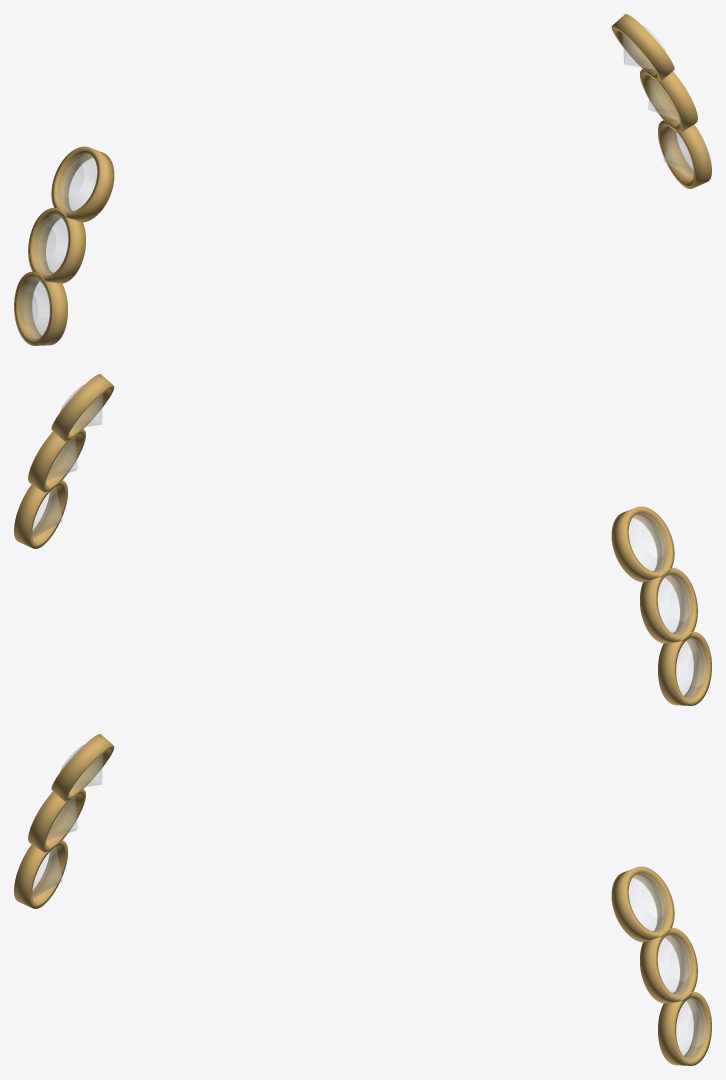
File: accents-bezel-accents-wide.glb
3 views of the same model, one above another, from view 1: azimuth 30°, elevation 25°; view 2: azimuth 150°, elevation 25°; view 3: azimuth 330°, elevation 25° (orthographic).
Visible parts, largest first — view 1: Accent bezel, Accent bezel.002, Accent bezel.001, Accent bezel.005, Accent bezel.004, Accent bezel.003, Gem, Gem.001, Gem.002, Gem.005, Gem.004, Gem.003; view 2: Accent bezel, Accent bezel.002, Accent bezel.001, Accent bezel.005, Accent bezel.004, Accent bezel.003, Gem, Gem.001, Gem.002, Gem.005, Gem.004, Gem.003; view 3: Accent bezel.003, Accent bezel.005, Accent bezel.004, Accent bezel.002, Accent bezel.001, Accent bezel, Gem.003, Gem.004, Gem.005, Gem.002, Gem.001, Gem.
Part boxes in pixels (bbox=[...]): Accent bezel: bbox=[51, 146, 114, 222]; Accent bezel.002: bbox=[14, 271, 67, 345]; Accent bezel.001: bbox=[28, 208, 85, 283]; Accent bezel.005: bbox=[658, 118, 711, 188]; Accent bezel.004: bbox=[640, 67, 697, 132]; Accent bezel.003: bbox=[611, 14, 674, 81]; Gem: bbox=[58, 153, 96, 211]; Gem.001: bbox=[34, 214, 67, 274]; Gem.002: bbox=[19, 278, 49, 339]; Gem.005: bbox=[663, 128, 693, 177]; Gem.004: bbox=[648, 77, 679, 120]; Gem.003: bbox=[623, 25, 665, 69]; Accent bezel: bbox=[611, 506, 674, 582]; Accent bezel.002: bbox=[658, 631, 711, 705]; Accent bezel.001: bbox=[640, 568, 697, 643]; Accent bezel.005: bbox=[14, 478, 67, 548]; Accent bezel.004: bbox=[28, 427, 85, 492]; Accent bezel.003: bbox=[51, 374, 114, 441]; Gem: bbox=[629, 513, 667, 571]; Gem.001: bbox=[658, 574, 691, 634]; Gem.002: bbox=[676, 638, 706, 699]; Gem.005: bbox=[32, 488, 62, 537]; Gem.004: bbox=[46, 437, 77, 480]; Gem.003: bbox=[60, 385, 102, 429]; Accent bezel.003: bbox=[611, 866, 674, 942]; Accent bezel.005: bbox=[658, 991, 711, 1065]; Accent bezel.004: bbox=[640, 928, 697, 1003]; Accent bezel.002: bbox=[14, 838, 67, 908]; Accent bezel.001: bbox=[28, 787, 85, 852]; Accent bezel: bbox=[51, 734, 114, 801]; Gem.003: bbox=[629, 873, 667, 931]; Gem.004: bbox=[658, 934, 691, 994]; Gem.005: bbox=[676, 998, 706, 1059]; Gem.002: bbox=[32, 848, 62, 897]; Gem.001: bbox=[46, 797, 77, 840]; Gem: bbox=[60, 745, 102, 789].
Size of the model in its own units: 19.8 by 5.08 by 1.89.
